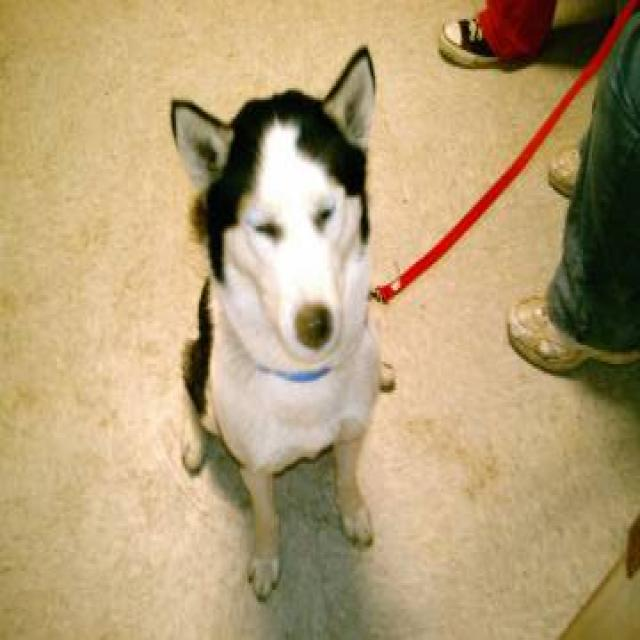dog: (169, 43, 396, 602)
